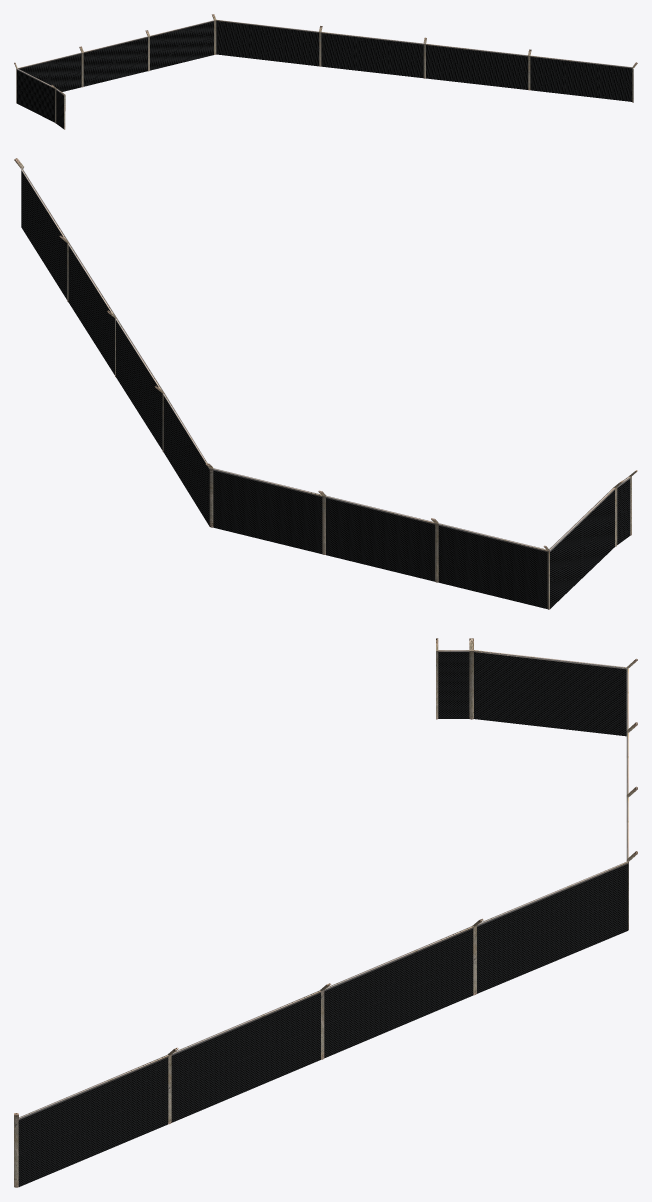
Rendered from M11Z1_ChainFence_B.glb.
The picture shows the model from 3 angles, top to bottom: view 1: azimuth 30°, elevation 25°; view 2: azimuth 150°, elevation 25°; view 3: azimuth 270°, elevation 25°; orthographic projection. The views are drawn at different scales.
Parts seen in each view (by area): view 1: M11Z1_CHAINFENCE_B; view 2: M11Z1_CHAINFENCE_B; view 3: M11Z1_CHAINFENCE_B.
Boxes of the visible parts, x1=… form: M11Z1_CHAINFENCE_B: x1=14, y1=14, x2=637, y2=129; M11Z1_CHAINFENCE_B: x1=14, y1=158, x2=637, y2=609; M11Z1_CHAINFENCE_B: x1=14, y1=638, x2=637, y2=1187.
Size of the model in its own units: 56.94 by 5.5 by 32.72.
Materials: 3 (3 with a texture image).
